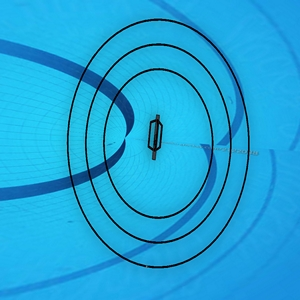circle: (65, 19, 250, 272)
submarine: (148, 113, 166, 157)
